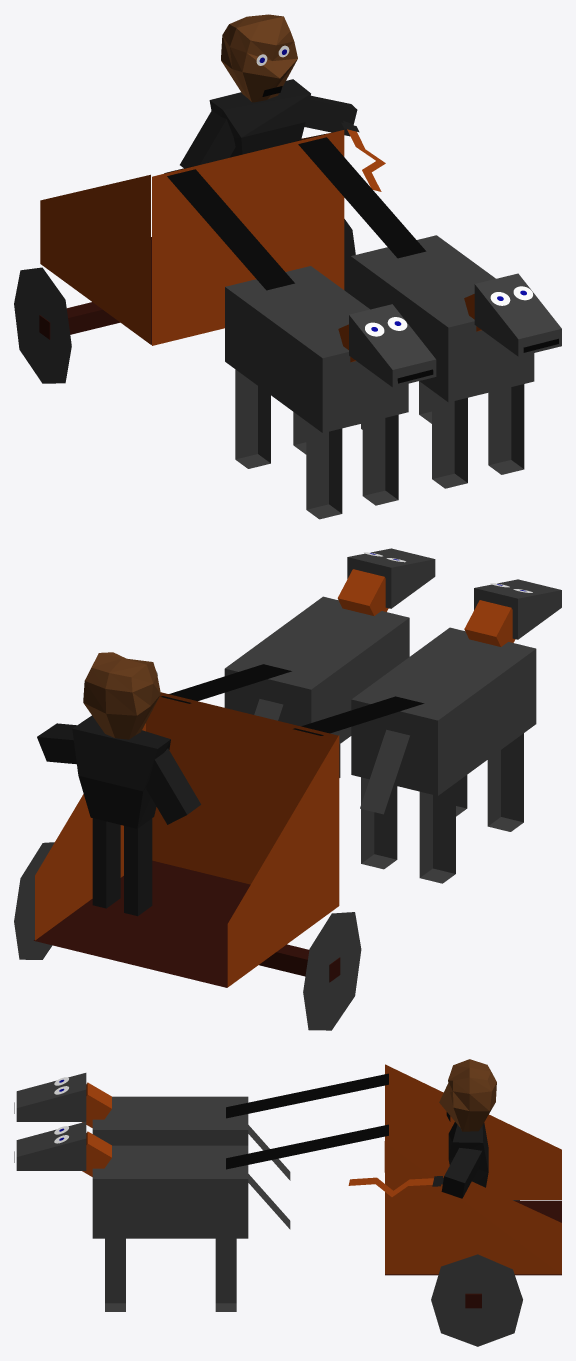
Rendered from heavychariot1f.obj.
3 renders of one model, top to bottom at view 1: azimuth 30°, elevation 25°; view 2: azimuth 150°, elevation 25°; view 3: azimuth 270°, elevation 25°, orthographic. The views are drawn at different scales.
Visible parts, largest first — view 1: Plane.005_Plane.006, Cube.015_Cube.017, Cube.006_Cube.009, Plane.003, Plane.007_Plane.008, Cube, Cube.001, Cube.014_Cube.016, Cube.021_Cube.023, Plane.013_Plane.014, Plane.012_Plane.013, Cube.019_Cube.021 (+7 smaller); view 2: Plane.005_Plane.006, Cube.015_Cube.017, Cube.006_Cube.009, Plane.002, Plane.003, Cube.001, Plane.004, Cube, Plane.007_Plane.008, Cube.016_Cube.018, Cube.019_Cube.021, Cube.014_Cube.016 (+13 smaller); view 3: Plane.004, Cube.006_Cube.009, Plane.003, Cube.015_Cube.017, Plane.006_Plane.007, Cube, Cube.014_Cube.016, Cube.021_Cube.023, Plane.012_Plane.013, Plane.013_Plane.014, Cube.010_Cube.012, Cube.011_Cube.013 (+7 smaller).
Boxes of the visible parts, left/top/right/bottom form: Plane.005_Plane.006: left=152, top=130, right=344, bottom=345; Cube.015_Cube.017: left=225, top=266, right=408, bottom=432; Cube.006_Cube.009: left=350, top=235, right=534, bottom=402; Plane.003: left=40, top=174, right=150, bottom=344; Plane.007_Plane.008: left=14, top=267, right=71, bottom=383; Cube: left=221, top=14, right=297, bottom=102; Cube.001: left=209, top=79, right=310, bottom=157; Cube.014_Cube.016: left=474, top=273, right=561, bottom=356; Cube.021_Cube.023: left=349, top=304, right=436, bottom=387; Plane.013_Plane.014: left=295, top=134, right=426, bottom=258; Plane.012_Plane.013: left=164, top=166, right=294, bottom=290; Cube.019_Cube.021: left=306, top=421, right=342, bottom=519; Plane.005_Plane.006: left=146, top=692, right=338, bottom=884; Cube.015_Cube.017: left=351, top=627, right=536, bottom=795; Cube.006_Cube.009: left=224, top=596, right=409, bottom=744; Plane.002: left=33, top=860, right=250, bottom=987; Plane.003: left=227, top=735, right=339, bottom=987; Cube.001: left=72, top=715, right=170, bottom=828; Plane.004: left=35, top=723, right=145, bottom=940; Cube: left=83, top=652, right=160, bottom=739; Plane.007_Plane.008: left=303, top=912, right=361, bottom=1030; Cube.016_Cube.018: left=419, top=783, right=455, bottom=883; Cube.019_Cube.021: left=487, top=733, right=523, bottom=831; Cube.014_Cube.016: left=347, top=548, right=435, bottom=608; Plane.004: left=384, top=1141, right=561, bottom=1274; Cube.006_Cube.009: left=92, top=1145, right=248, bottom=1238; Plane.003: left=385, top=1064, right=561, bottom=1199; Cube.015_Cube.017: left=92, top=1096, right=248, bottom=1145; Plane.006_Plane.007: left=431, top=1254, right=522, bottom=1346; Cube: left=439, top=1059, right=496, bottom=1131; Cube.014_Cube.016: left=16, top=1121, right=86, bottom=1170; Cube.021_Cube.023: left=16, top=1073, right=86, bottom=1121; Plane.012_Plane.013: left=226, top=1073, right=388, bottom=1118; Plane.013_Plane.014: left=226, top=1124, right=388, bottom=1169; Cube.010_Cube.012: left=215, top=1238, right=236, bottom=1311; Cube.011_Cube.013: left=105, top=1238, right=125, bottom=1311.
Bounding box in the file's own units: 7.54 × 7.5 × 14.9.
